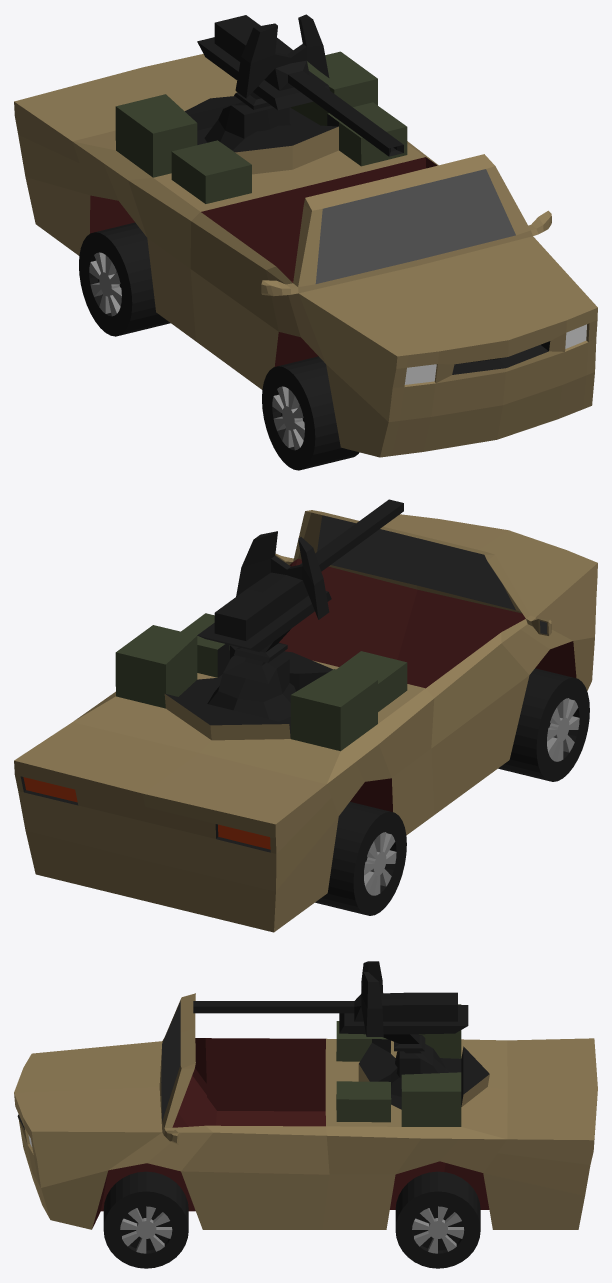
The model's file is Jeep .fbx.
3 views of the same model, one above another, from view 1: azimuth 30°, elevation 25°; view 2: azimuth 150°, elevation 25°; view 3: azimuth 270°, elevation 25° (orthographic). The views are drawn at different scales.
Parts seen in each view (by area): view 1: Jeep, Gun, WheelFrontRight, WheelBackRight; view 2: Jeep, Gun, WheelBackRight, WheelFrontRight; view 3: Jeep, Gun, WheelBackLeft, WheelFrontLeft.
Boxes of the visible parts, x1,y1,x2,y2 form: Jeep: [14, 51, 597, 457]; Gun: [197, 14, 403, 156]; WheelFrontRight: [262, 356, 359, 470]; WheelBackRight: [79, 222, 170, 336]; Jeep: [14, 510, 597, 932]; Gun: [197, 499, 403, 721]; WheelBackRight: [315, 802, 406, 915]; WheelFrontRight: [498, 668, 589, 781]; Jeep: [14, 993, 597, 1229]; Gun: [193, 961, 468, 1096]; WheelBackLeft: [395, 1171, 480, 1268]; WheelFrontLeft: [103, 1171, 188, 1268].
Bounding box in the file's own units: 261 × 267 × 570.
